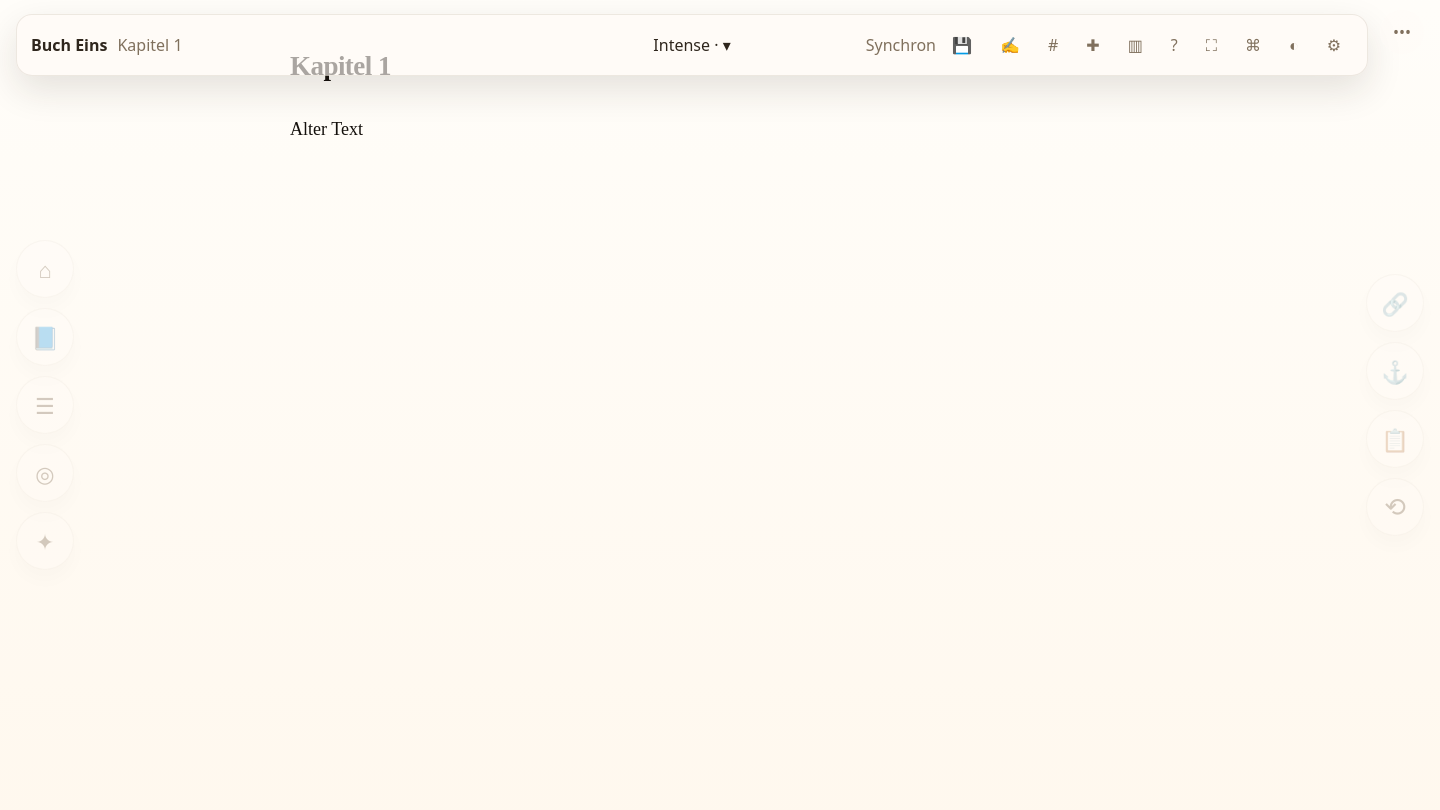
Test: App editor smoke test › shows contextual editor help for markdown, workflow, and clipboard usage
Click the button named "Hilfe" at {"x": 1174, "y": 45}, box [1159,25,1190,65]
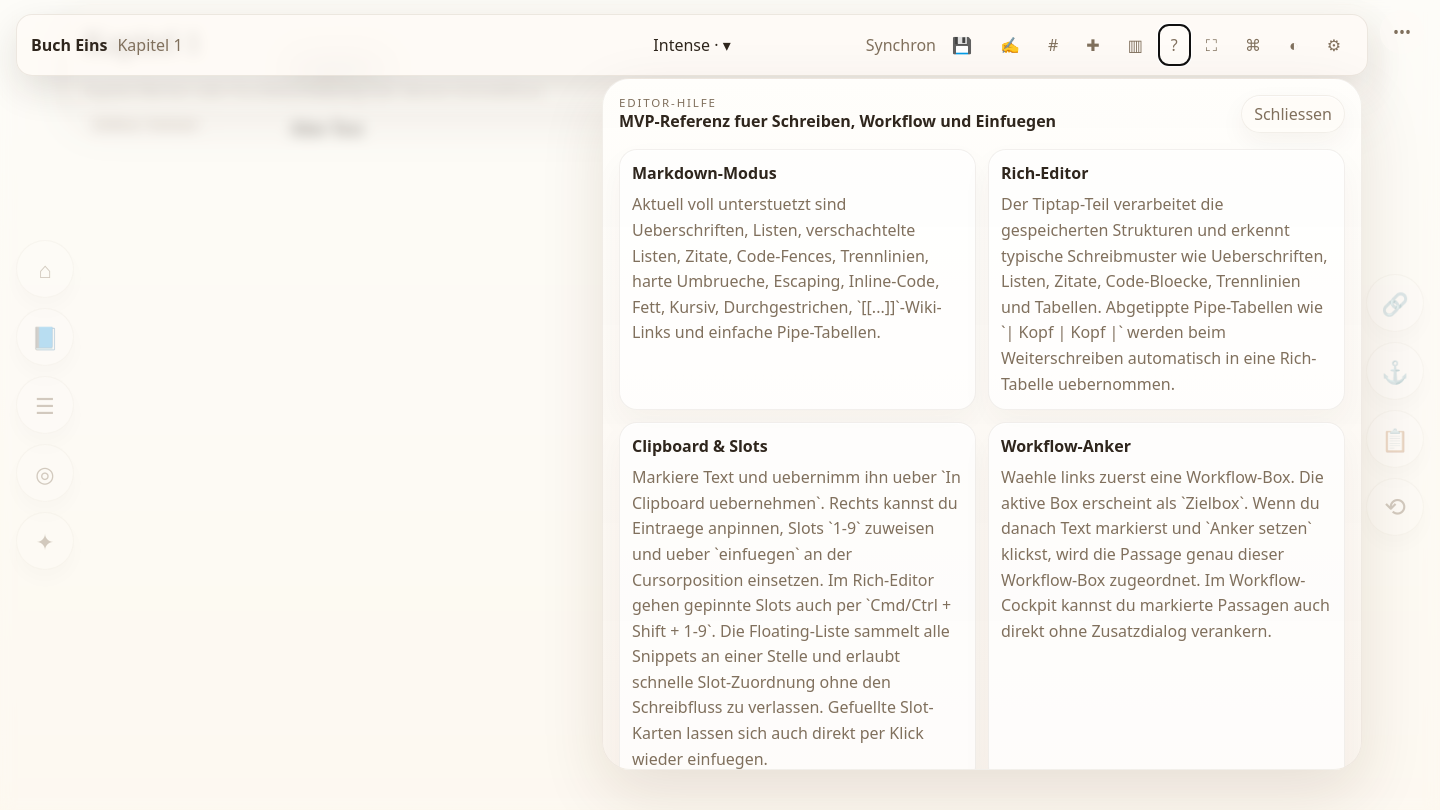
expect the dialog "Editor-Hilfe" is shown: met, box [602,78,1362,770]
expect the text "MVP-Referenz fuer Schreiben, Workflow und Einfuegen" is shown: met, box [619,110,1056,132]
expect the text "einfache Pipe-Tabellen" is shown: met, box [632,193,942,343]
Click the button "Schliessen" at {"x": 1293, "y": 114}, box [1241,95,1345,133]
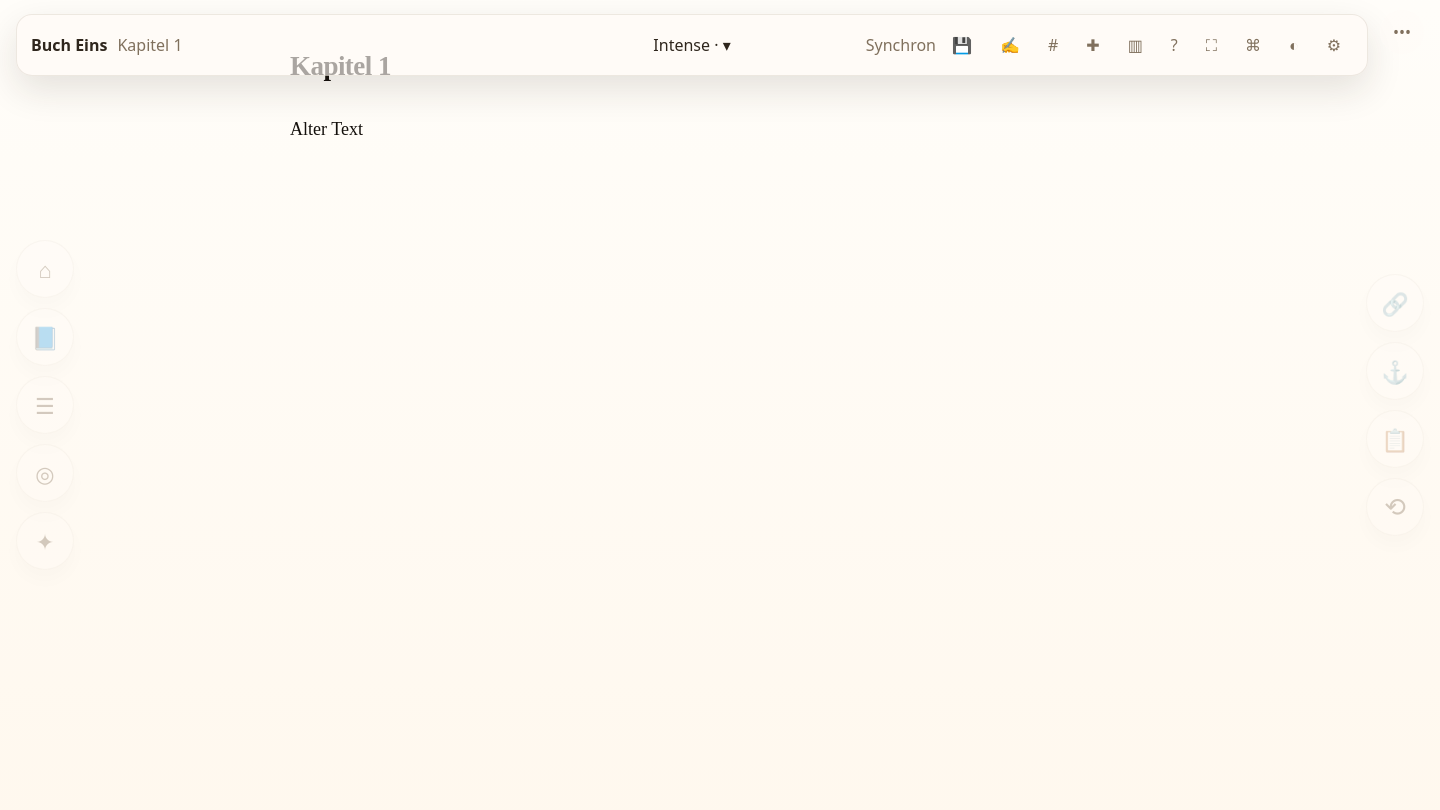
expect the text "Editor-Hilfe" is gone: met
